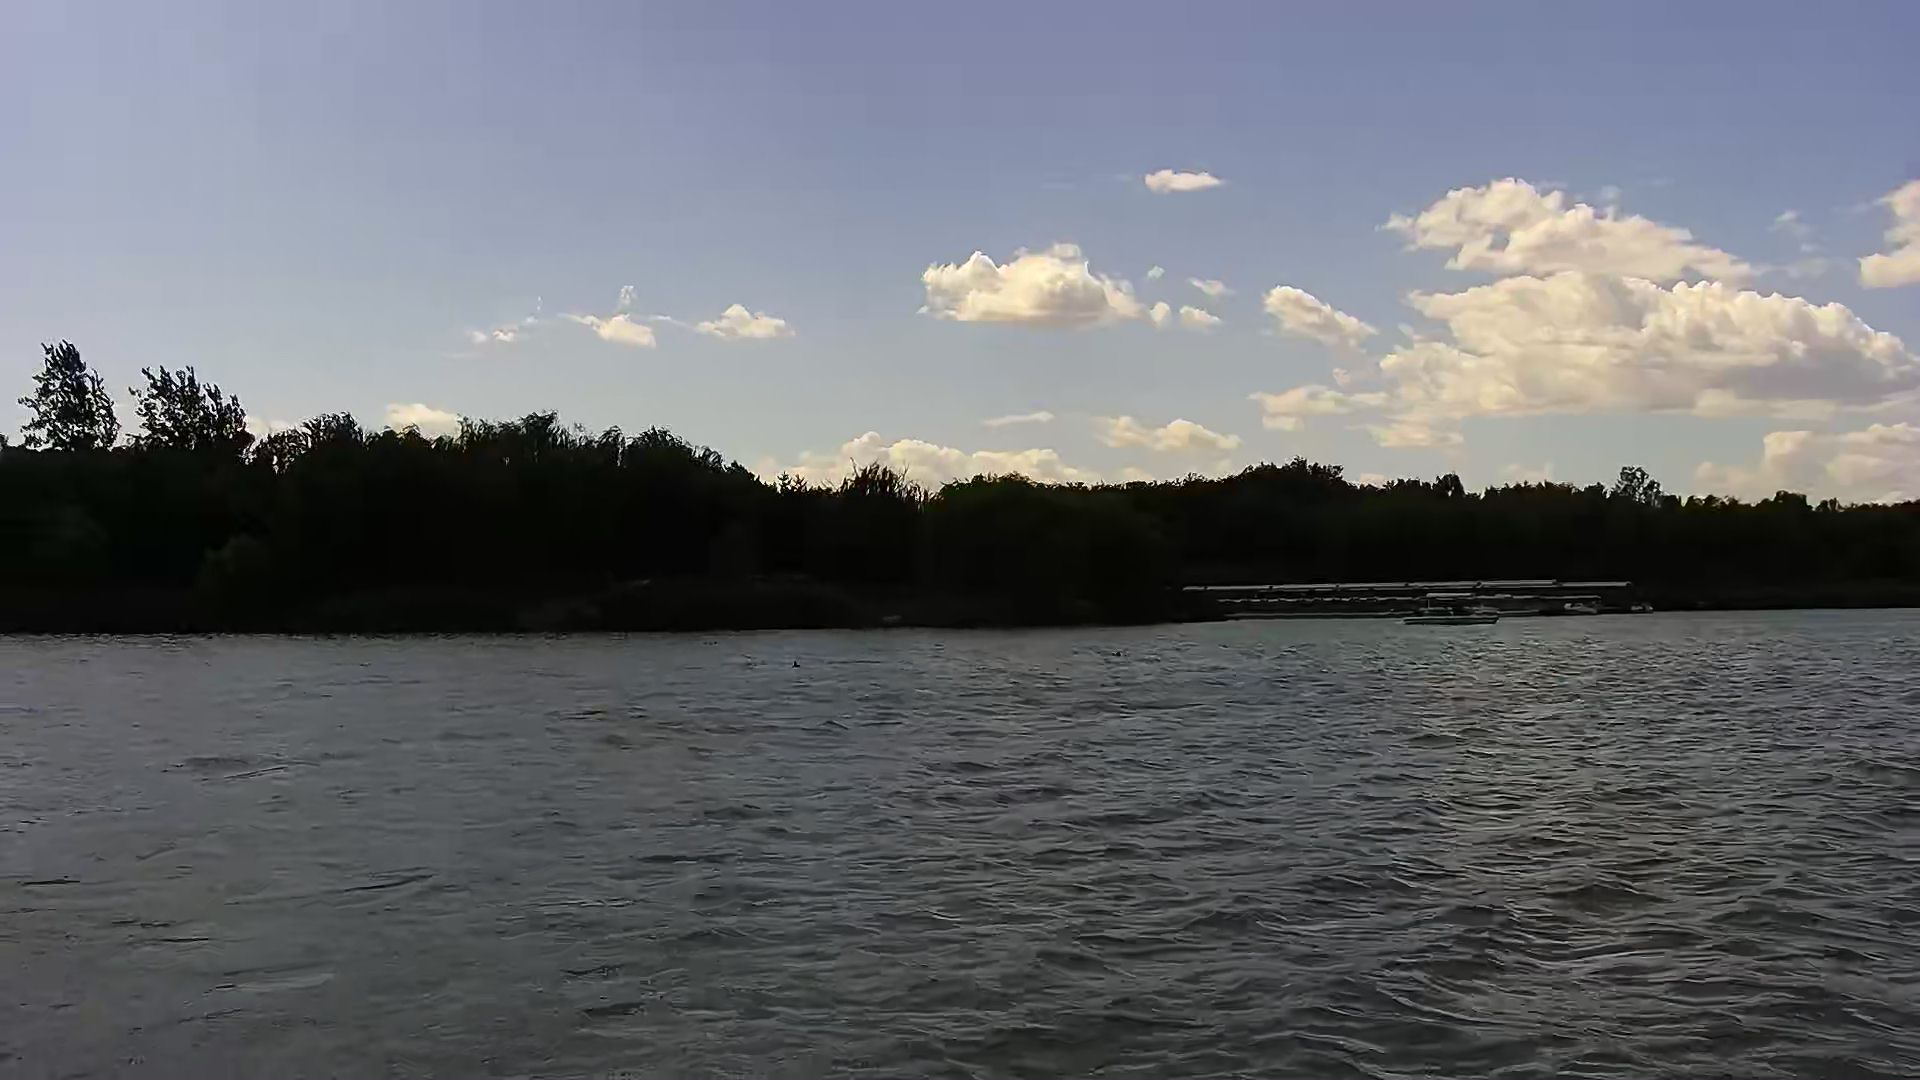boat: (1400, 592, 1506, 632)
harbor: (1176, 582, 1600, 621)
